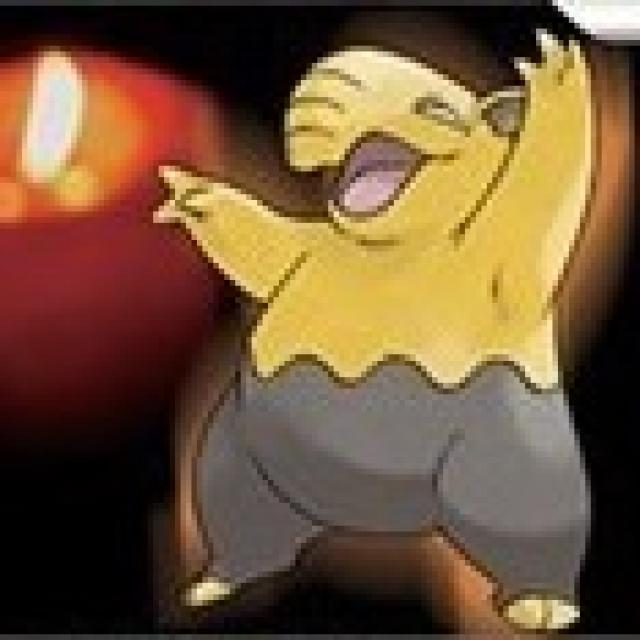Drowzee: (167, 37, 616, 640)
